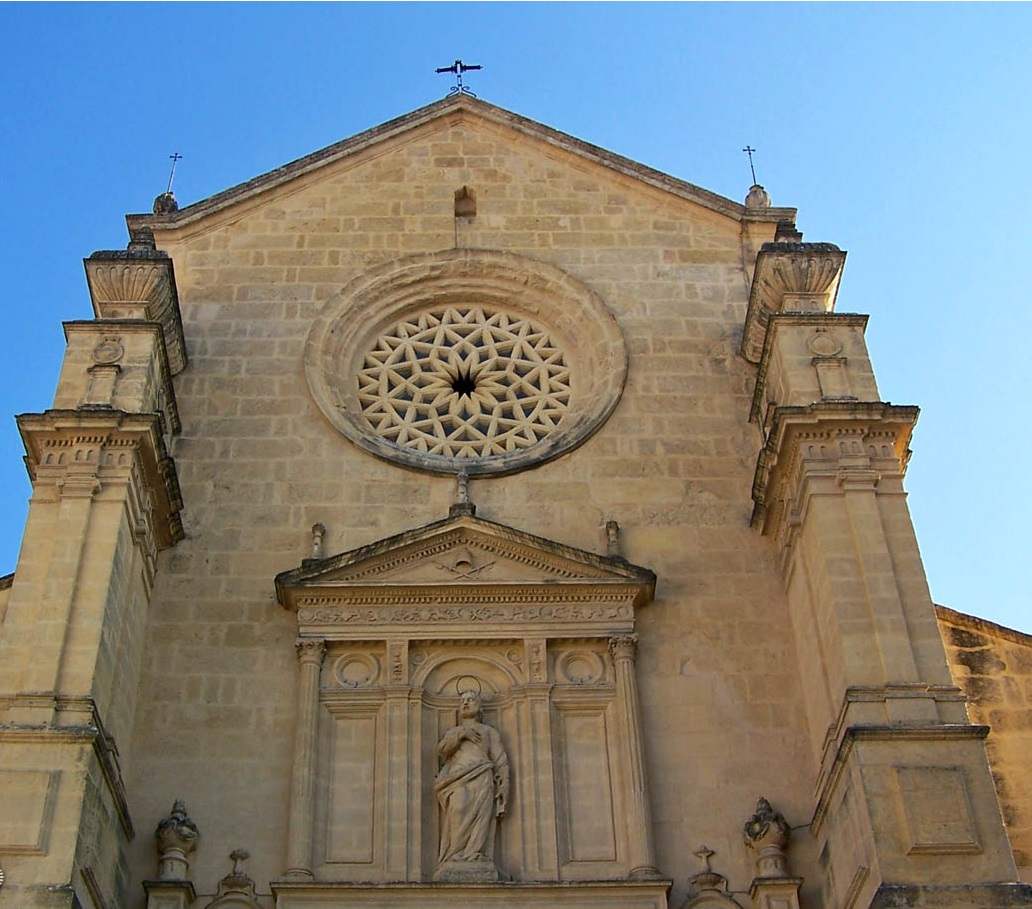fronton: (266, 508, 662, 609)
serliana: (301, 641, 630, 876)
